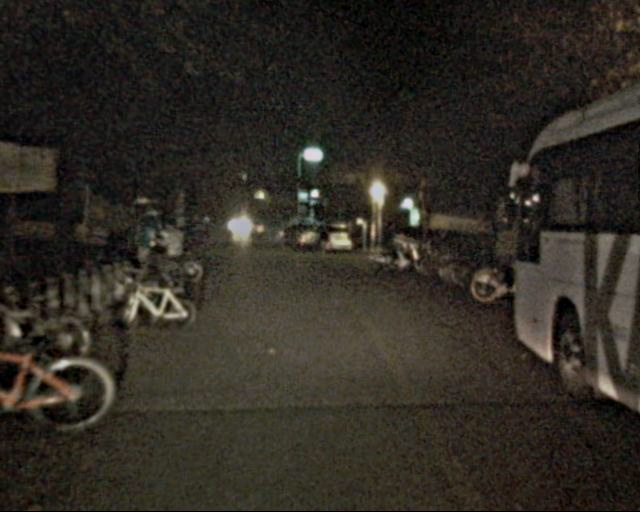person: (159, 220, 187, 289), (316, 227, 331, 263), (279, 224, 291, 254)
